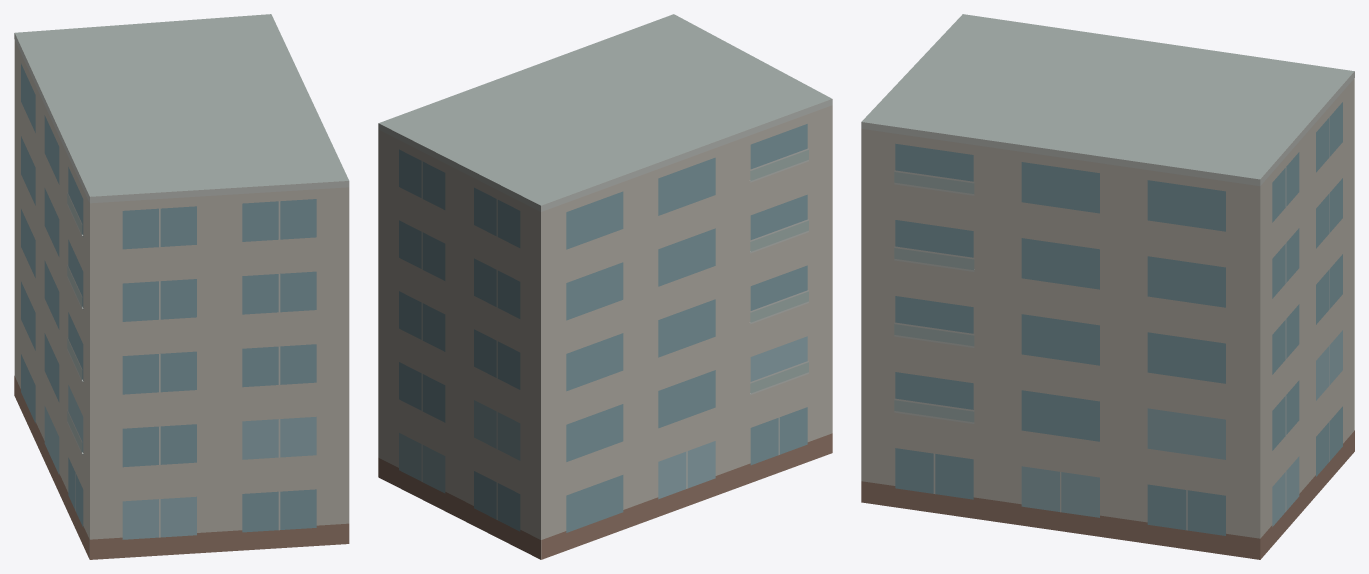
File: survey-upis-32854265.glb
3 renders of one model, left to right at view 1: azimuth 30°, elevation 25°; view 2: azimuth 150°, elevation 25°; view 3: azimuth 270°, elevation 25°, orthographic. The views are drawn at different scales.
Visible parts, largest first — view 1: survey-upis-32854265.tmp; view 2: survey-upis-32854265.tmp; view 3: survey-upis-32854265.tmp.
Part boxes in pixels (x1,y1,x2,y2): survey-upis-32854265.tmp: [14, 14, 349, 559]; survey-upis-32854265.tmp: [378, 14, 832, 559]; survey-upis-32854265.tmp: [861, 14, 1354, 559].
Size of the model in its own units: 12.79 by 13.7 by 16.11.
